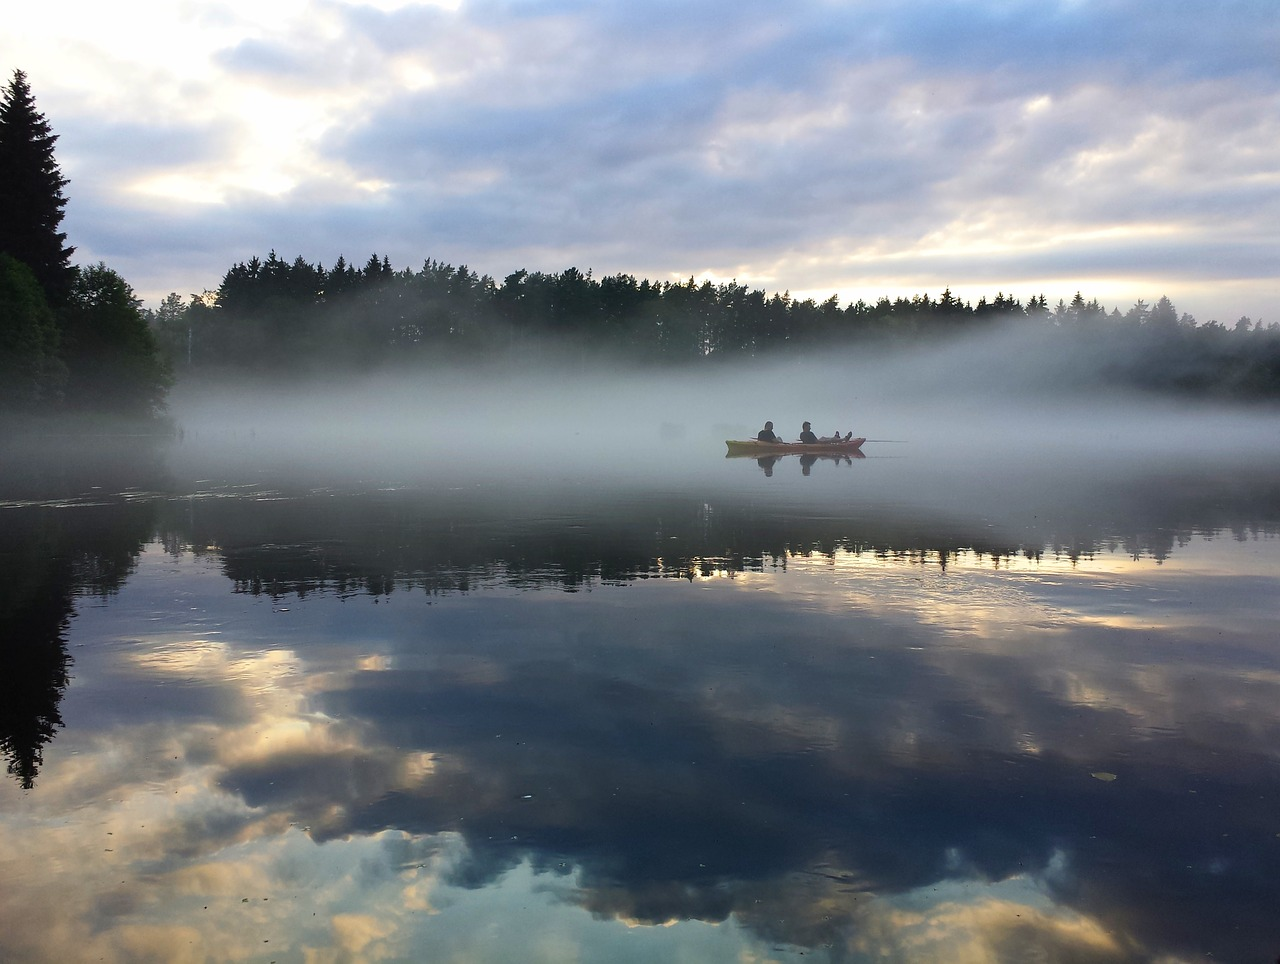kayak: (724, 436, 871, 456)
